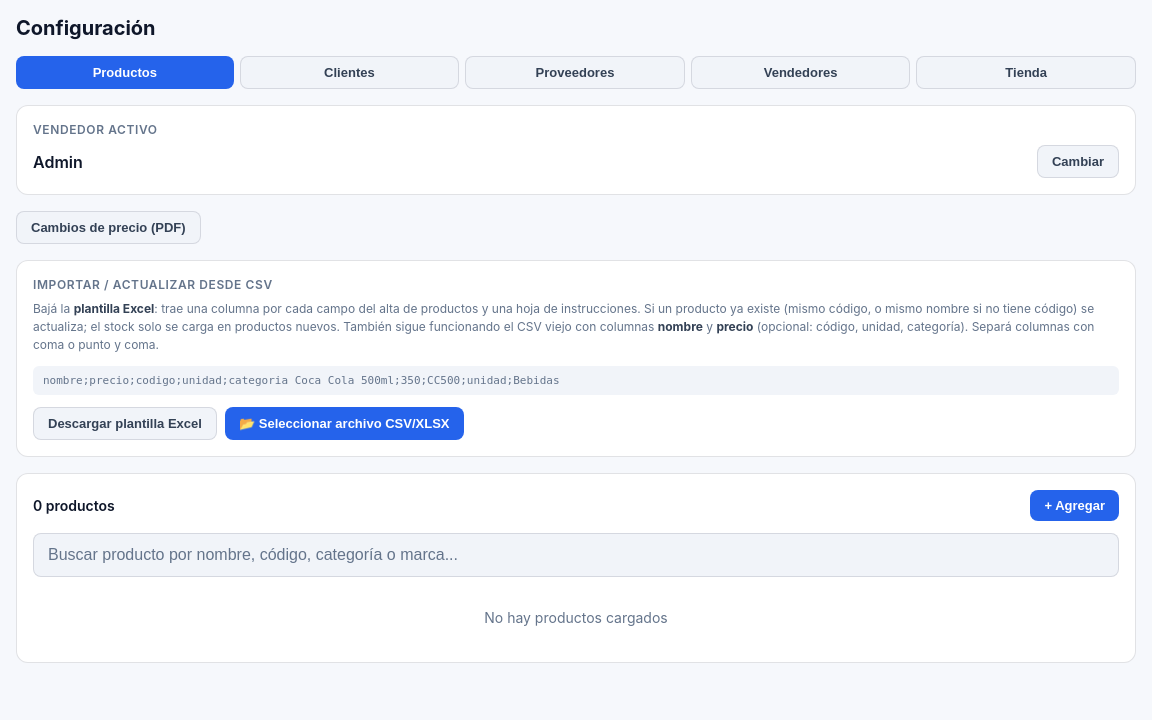
Test: AC-PLA-4 / AC-PLA-2 clientes: texto de ayuda y comisión › AC-PLA-2 AC-CON-2 AC-CLI2-2 la ayuda de la tarjeta de clientes dice "16 campos" (sin Comisión ni Provincia)
Click the button "clientes" at (349, 72), box [240,56,459,89]
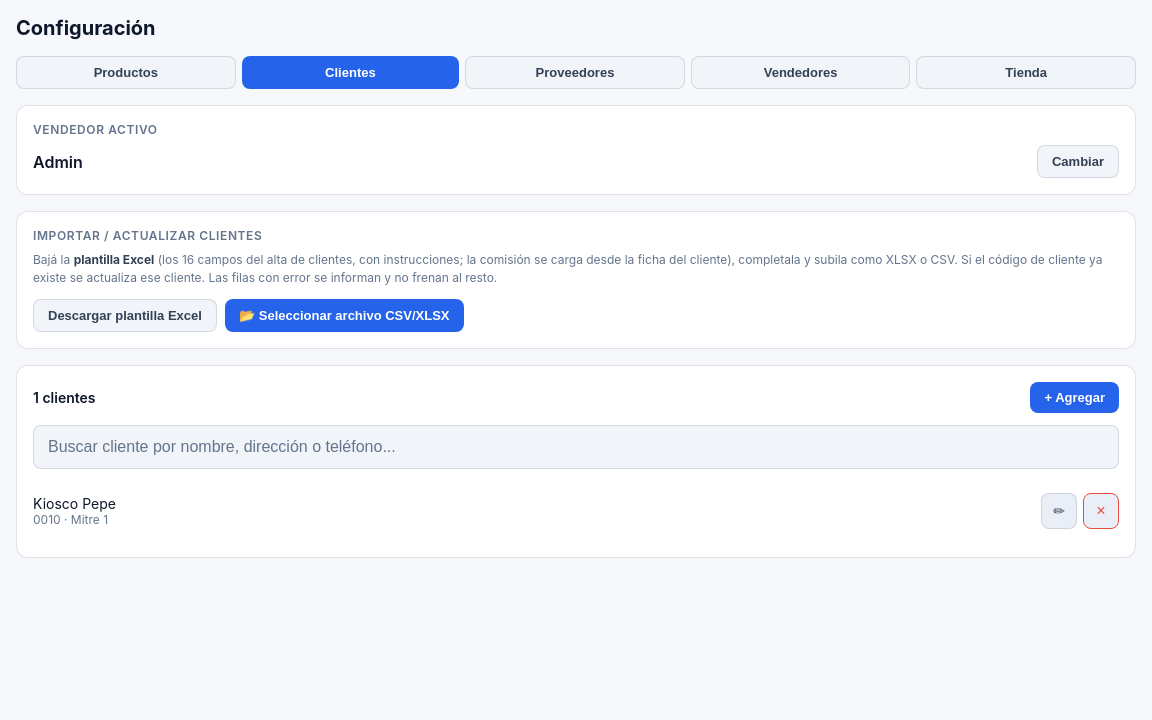
Expected: the element with test id "import-clientes" shows "16 campos", [16,211,1136,349]
